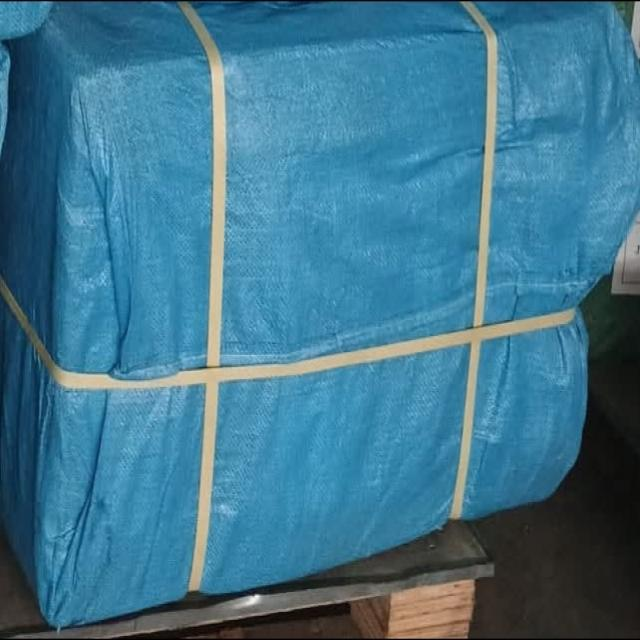carton_box: (0, 1, 628, 620)
